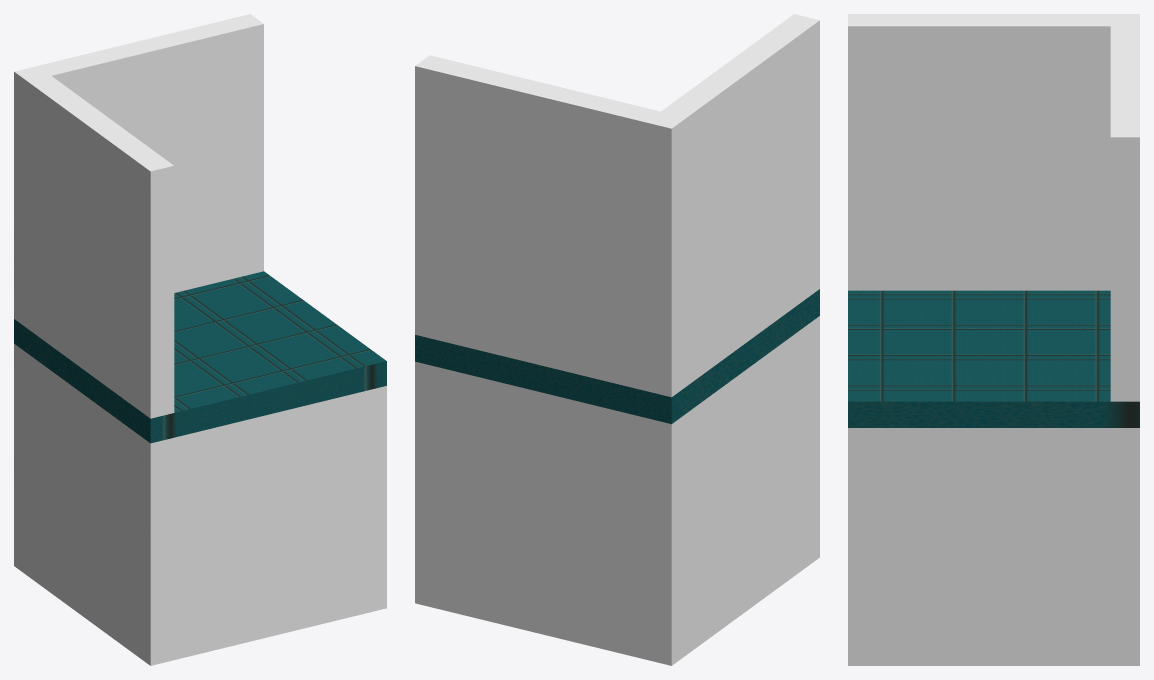
File: tiles_floor_wall_corner.glb
The picture shows the model from 3 angles, left to right: view 1: azimuth 30°, elevation 25°; view 2: azimuth 150°, elevation 25°; view 3: azimuth 270°, elevation 25°; orthographic projection. The views are drawn at different scales.
Visible parts, largest first — view 1: Floor_Corner; view 2: Floor_Corner; view 3: Floor_Corner.
Part boxes in pixels (x1=…): Floor_Corner: x1=14, y1=14, x2=386, y2=665; Floor_Corner: x1=415, y1=14, x2=819, y2=665; Floor_Corner: x1=848, y1=14, x2=1139, y2=665.
Size of the model in its own units: 2 by 4 by 2.
Materials: 3 (1 with a texture image).
